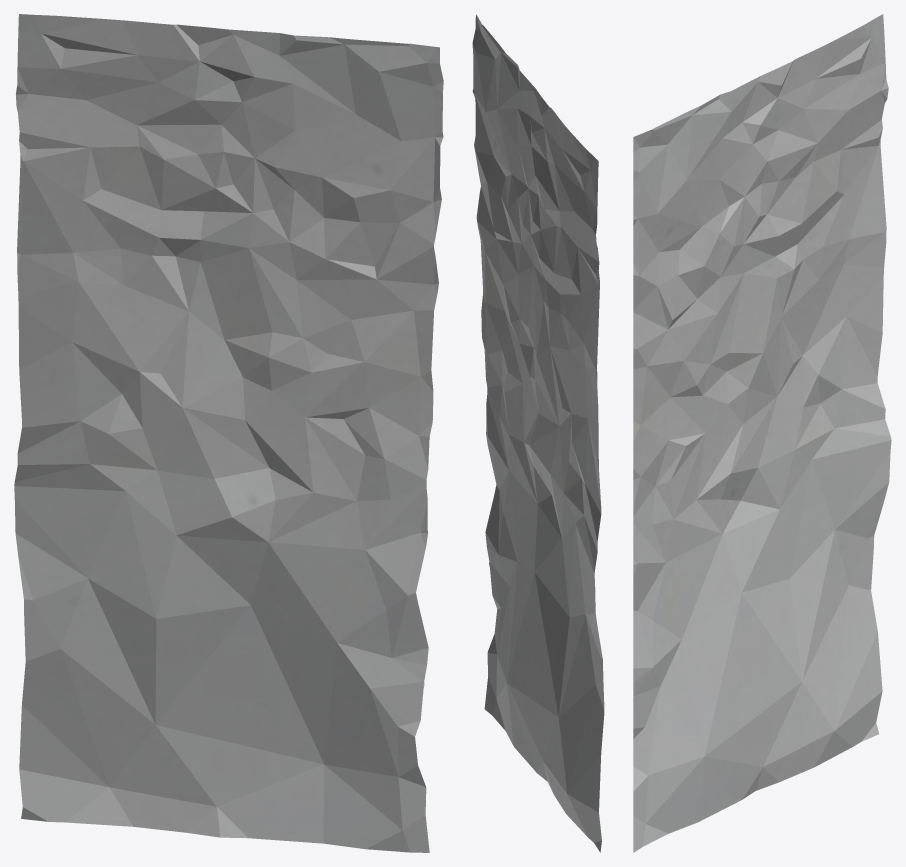
3 views of the same model, side by side, from view 1: azimuth 30°, elevation 25°; view 2: azimuth 150°, elevation 25°; view 3: azimuth 270°, elevation 25° (orthographic). The views are drawn at different scales.
Size of the model in its own units: 0.3115 by 0.8374 by 0.272.
Materials: 1 (1 with a texture image).
